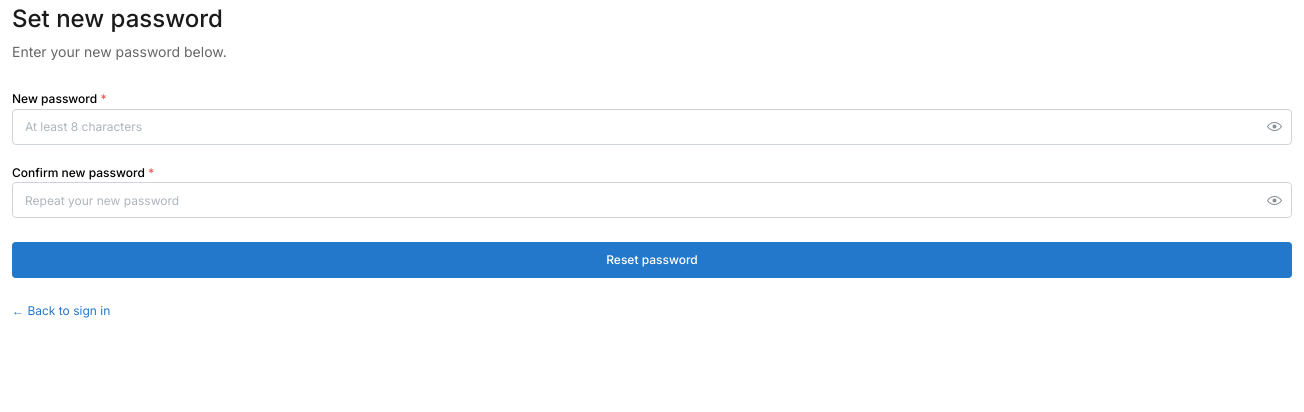
it: ResetPasswordForm › shows a token error alert when the API returns 400
This screenshot has width=1304, height=412.
Type "securepassword" into the password field with placeholder "At least 8 characters" at (652, 127), box [13,110,1291,144]
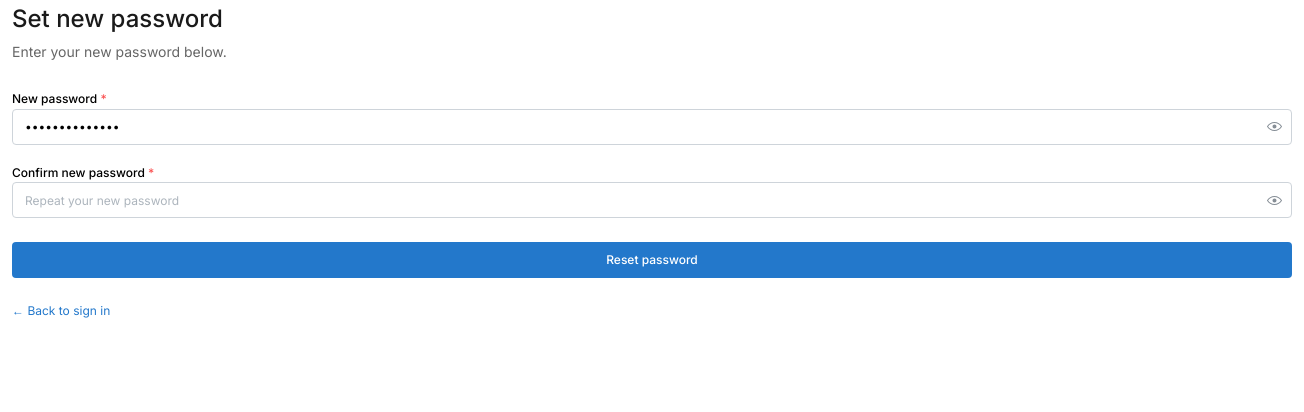
Type "securepassword" into the password field with placeholder "Repeat your new password" at (652, 200), box [13,183,1291,217]
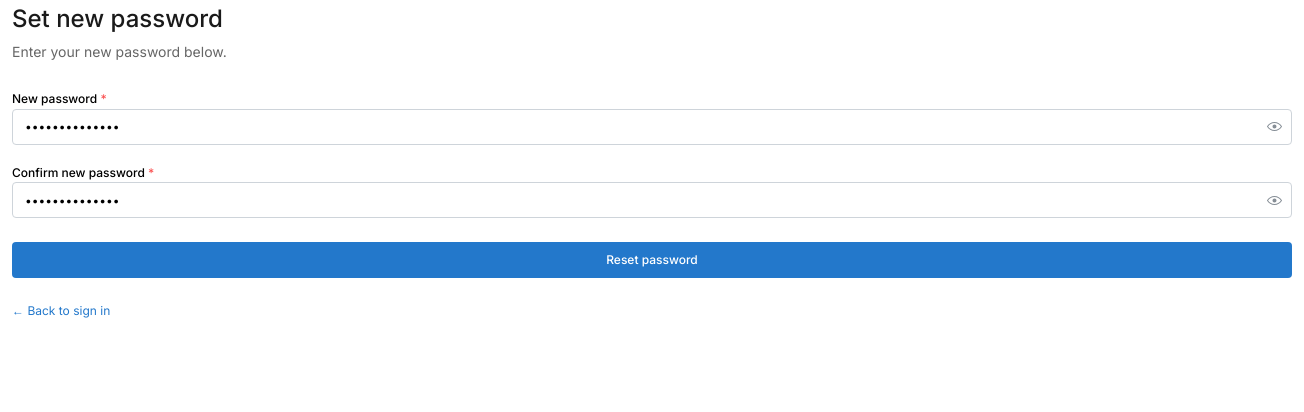
Click the button "Reset password" at (652, 260), box [12,242,1292,278]
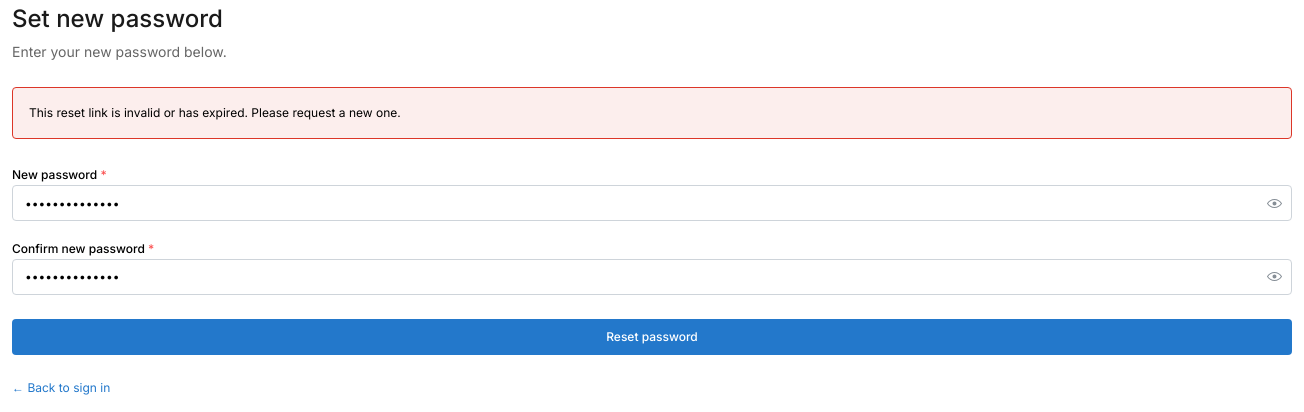
Check: the message "This reset link is invalid or has expired. Please request a new one." is shown, box [12,87,1292,140]
